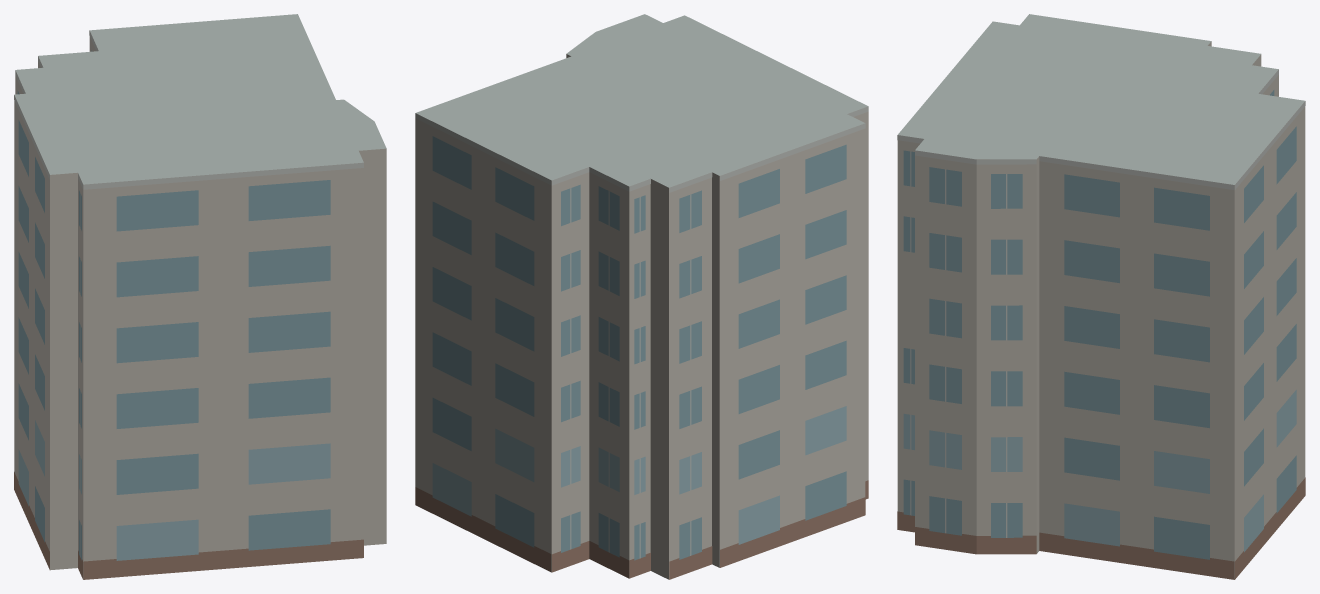
File: survey-upis-32656541.glb
3 renders of one model, left to right at view 1: azimuth 30°, elevation 25°; view 2: azimuth 150°, elevation 25°; view 3: azimuth 270°, elevation 25°, orthographic.
Parts seen in each view (by area): view 1: survey-upis-32656541.tmp; view 2: survey-upis-32656541.tmp; view 3: survey-upis-32656541.tmp.
Boxes of the visible parts, <box> form: survey-upis-32656541.tmp: <box>14,14,386,579</box>; survey-upis-32656541.tmp: <box>415,14,868,579</box>; survey-upis-32656541.tmp: <box>897,14,1305,579</box>.
Size of the model in its own units: 17.1 by 18.4 by 17.24.
